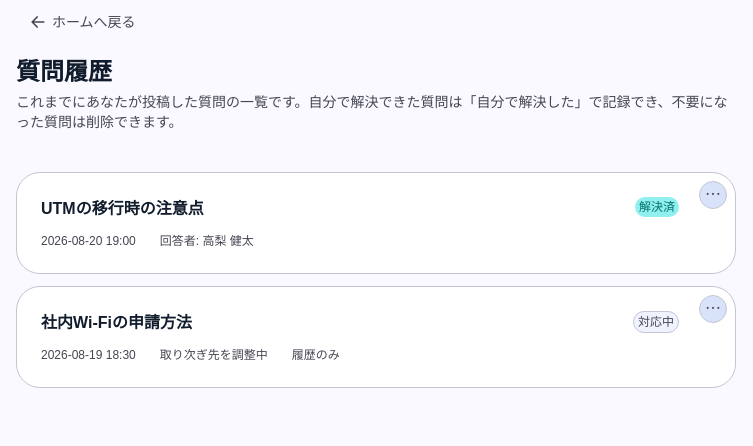
Test: HistoryScreen › closes the options menu on Escape
Expected: the heading "社内Wi-Fiの申請方法" is shown, [41,311,192,335]
Click the button named "「社内Wi-Fiの申請方法」の操作" at point(713, 309), box [699,295,727,323]
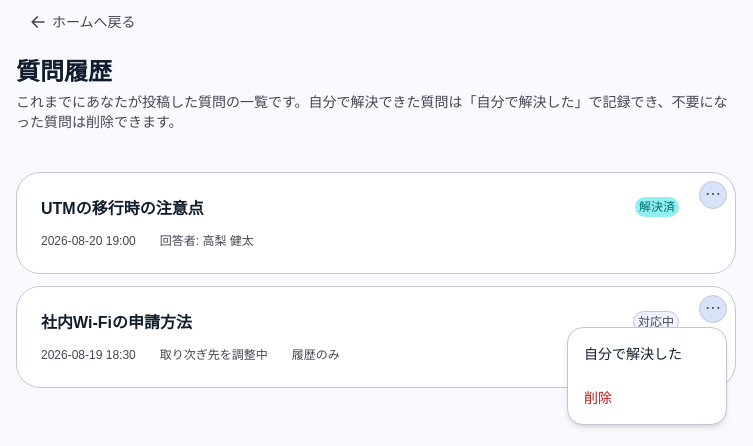
Result: the menu is shown at [567,327,727,425]
Press Escape
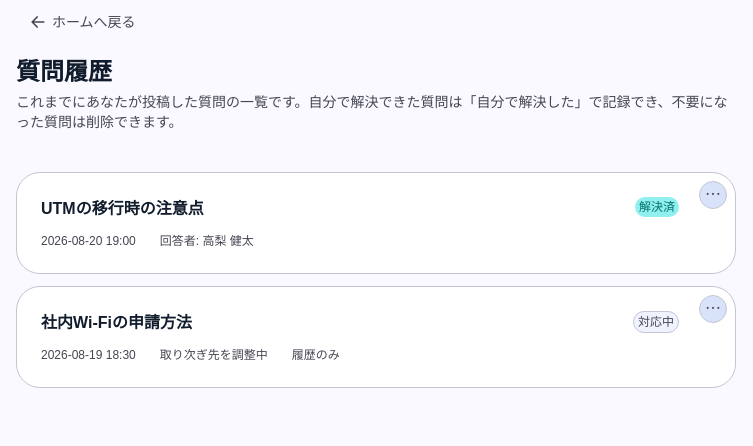
Result: the menu is gone
